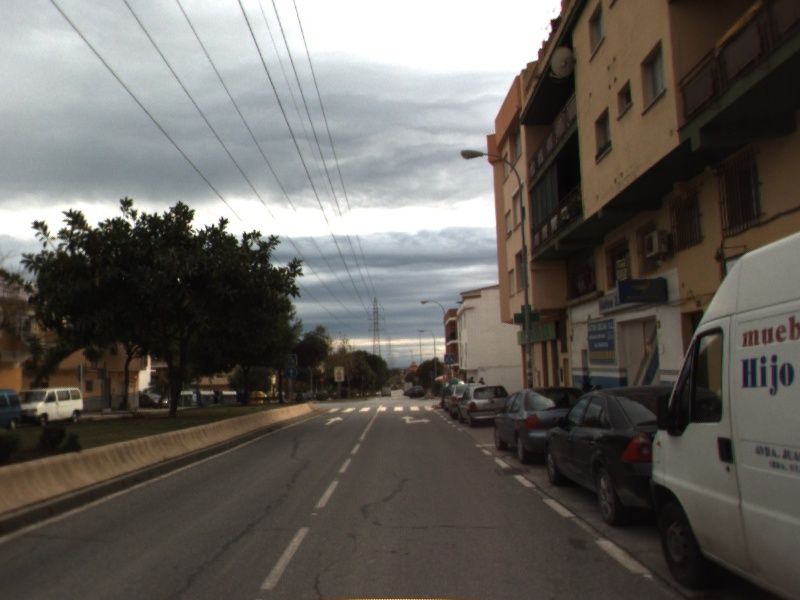STRAIGHT: (323, 415, 345, 427)
STRAIGHT_RIGHT: (399, 414, 432, 426)
